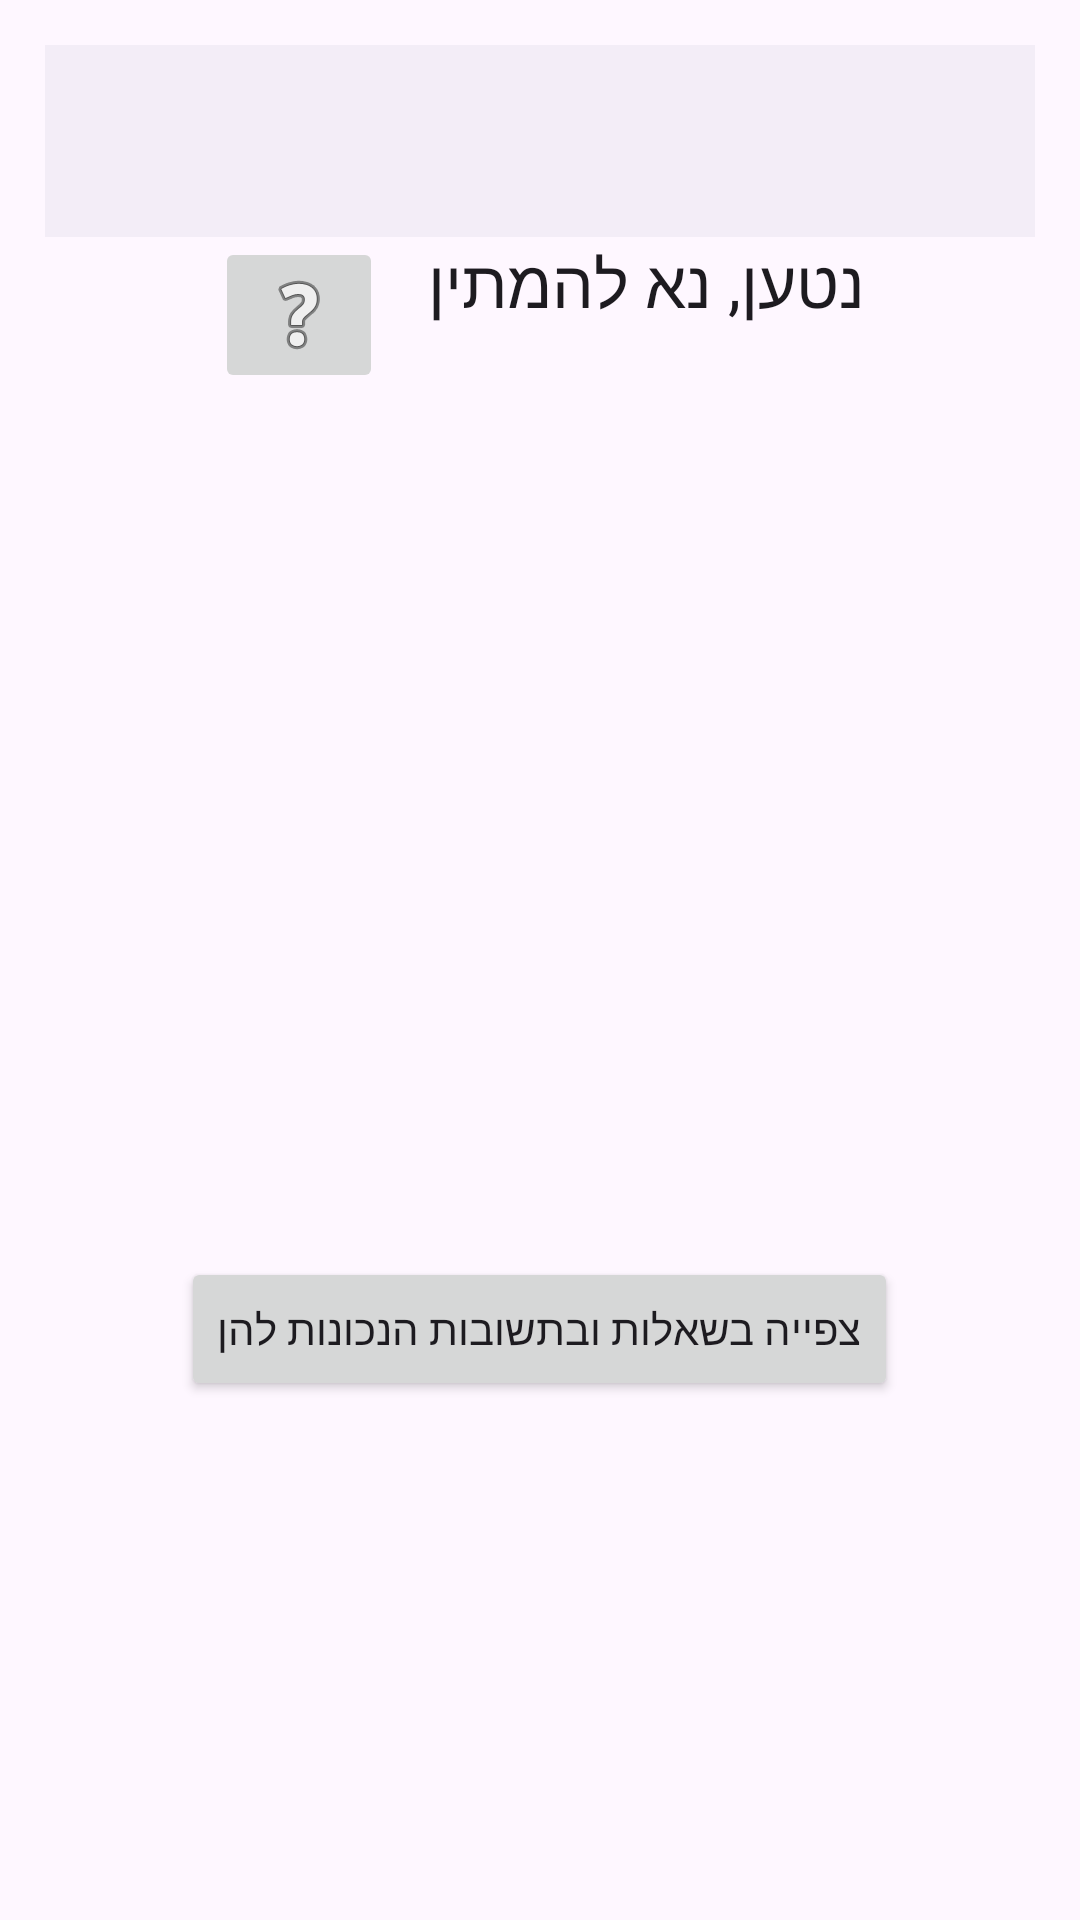

Point at icon controls on the screen. Image size 1080×1920, points as (x=x, y=y).
button with question mark. Clicking gives info on levels: (x=299, y=315)
